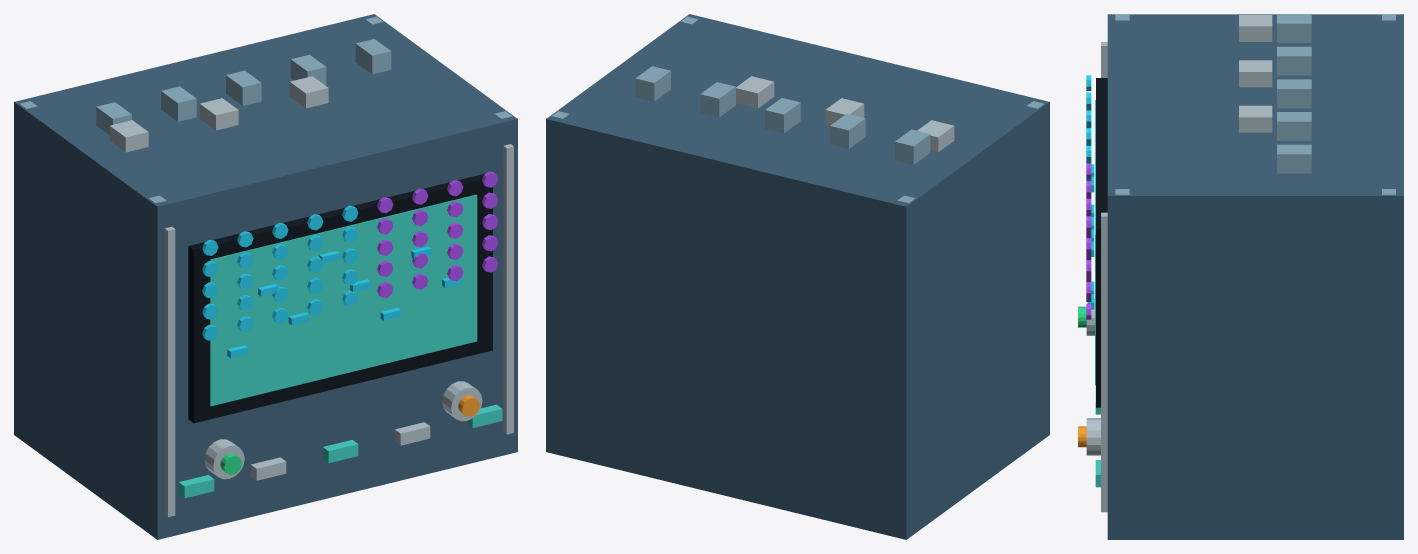
The model's file is 39_L72_SurfaceCoverageMonitor.fbx.
The picture shows the model from 3 angles, left to right: view 1: azimuth 30°, elevation 25°; view 2: azimuth 150°, elevation 25°; view 3: azimuth 270°, elevation 25°; orthographic projection. The views are drawn at different scales.
Visible parts, largest first — view 1: SurfaceCoverageMonitor; view 2: SurfaceCoverageMonitor; view 3: SurfaceCoverageMonitor.
Part boxes in pixels (x1,y1,x2,y2): SurfaceCoverageMonitor: (14,14,517,539); SurfaceCoverageMonitor: (546,14,1049,539); SurfaceCoverageMonitor: (1078,14,1403,539).
Bounding box in the file's own units: 103 × 96.12 × 78.09.
